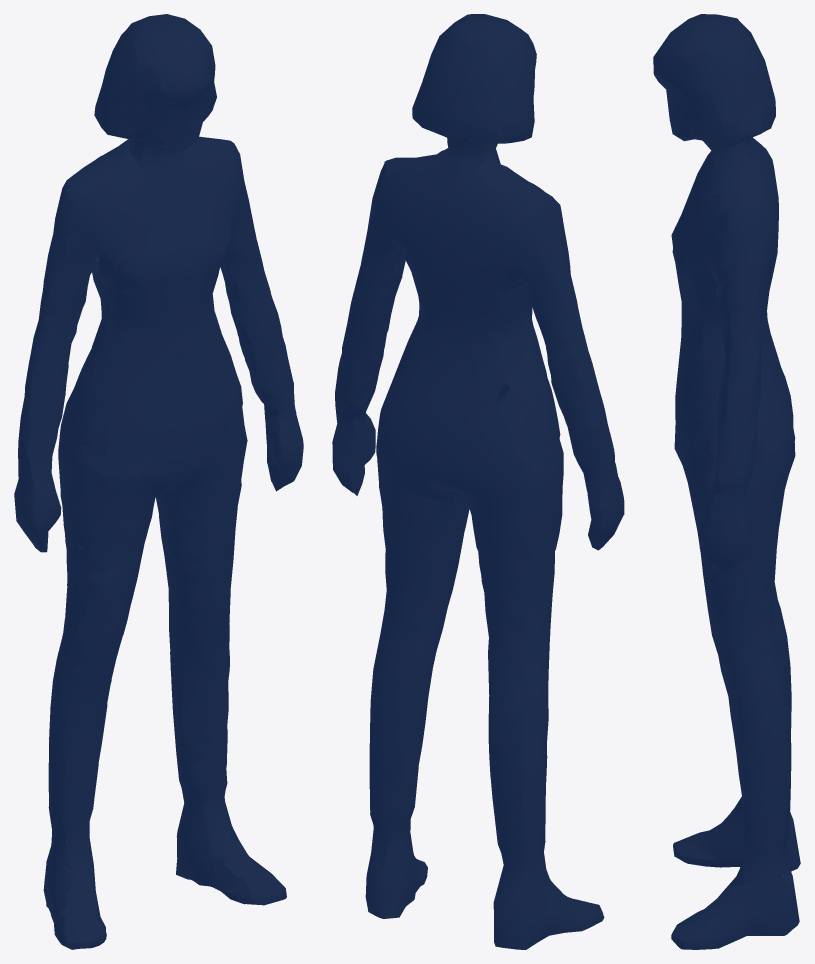
Rendered from char_eve_sterling.glb.
3 views of the same model, side by side, from view 1: azimuth 30°, elevation 25°; view 2: azimuth 150°, elevation 25°; view 3: azimuth 270°, elevation 25° (orthographic).
Visible parts, largest first — view 1: char_eve_sterling; view 2: char_eve_sterling; view 3: char_eve_sterling.
Part boxes in pixels (bbox=[...]): char_eve_sterling: bbox=[14, 14, 303, 949]; char_eve_sterling: bbox=[332, 14, 624, 949]; char_eve_sterling: bbox=[653, 14, 800, 949].
Size of the model in its own units: 0.5642 by 1.7 by 0.2585.
